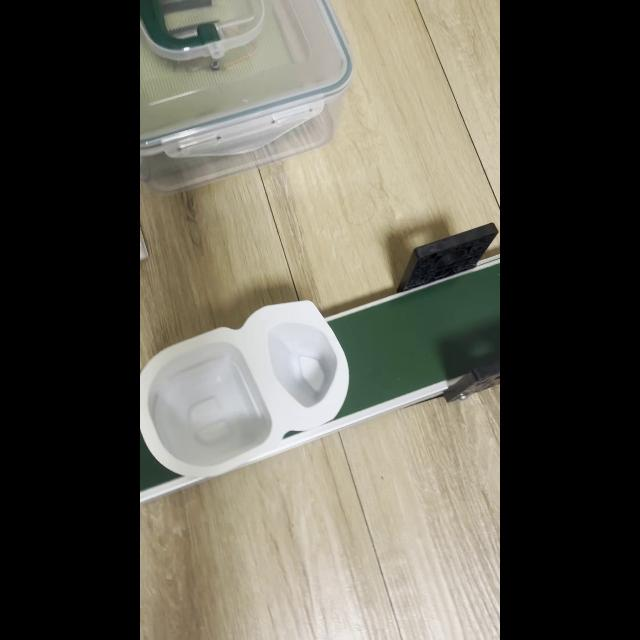clean: (141, 302, 349, 478)
